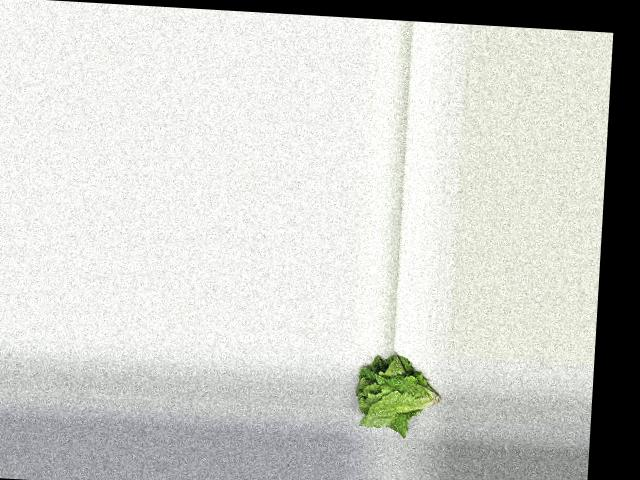lettuce: (349, 353, 446, 431)
